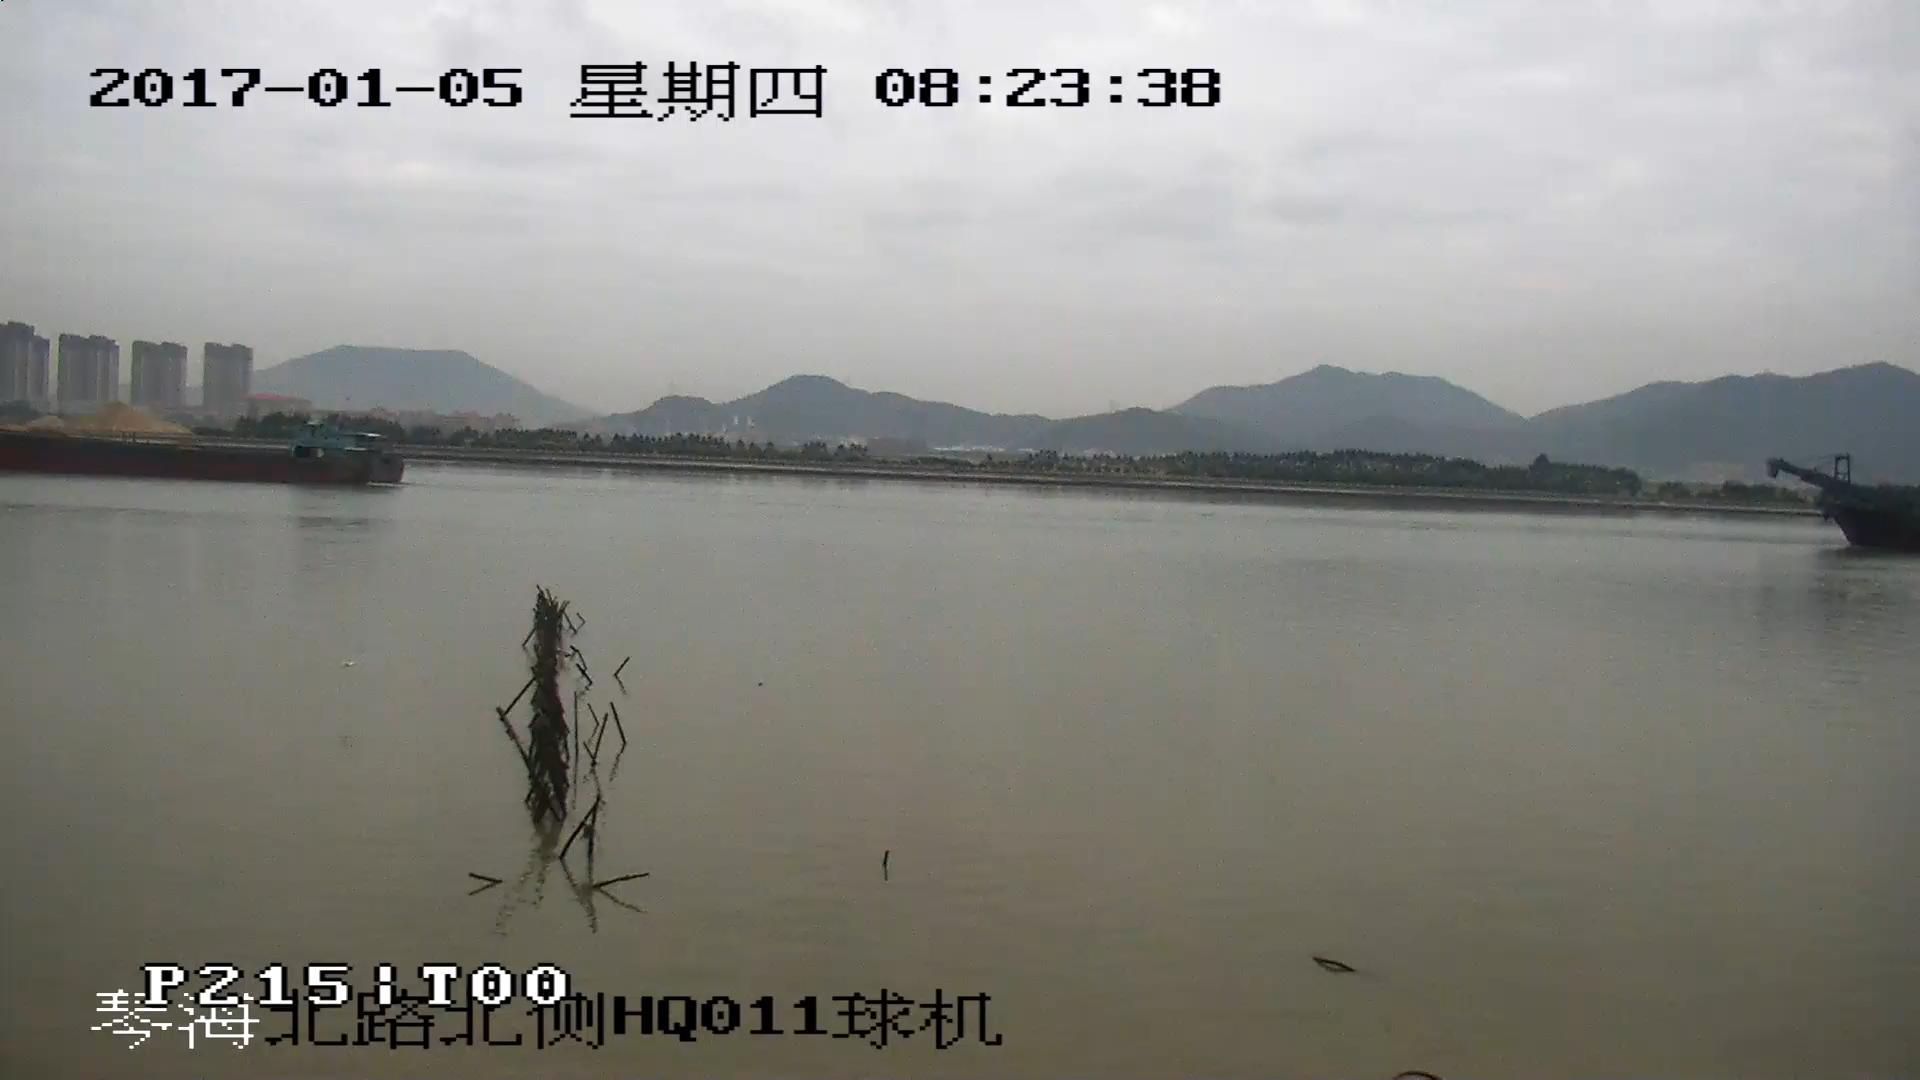Ship: (3, 423, 398, 491), (1774, 456, 1920, 556)
